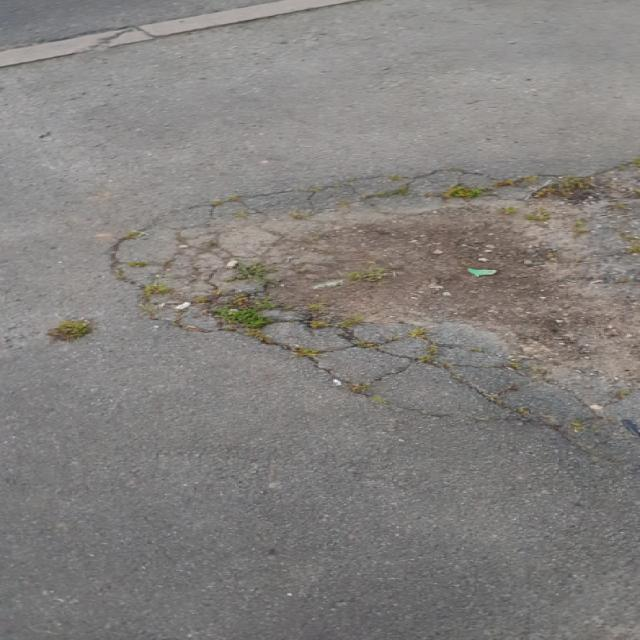pothole: (158, 174, 640, 416)
